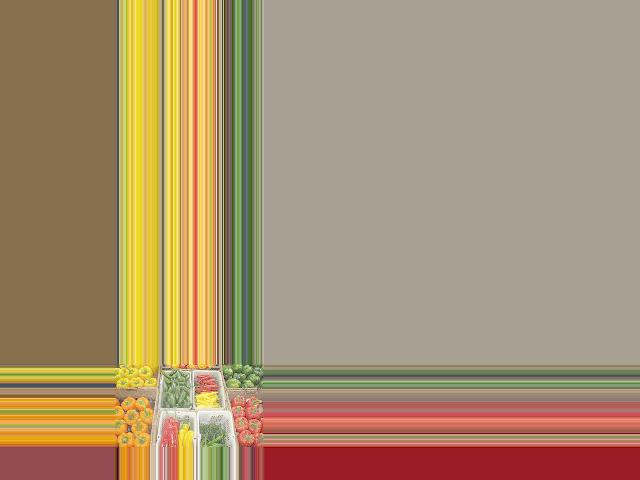bell_pepper: (241, 375, 255, 390)
